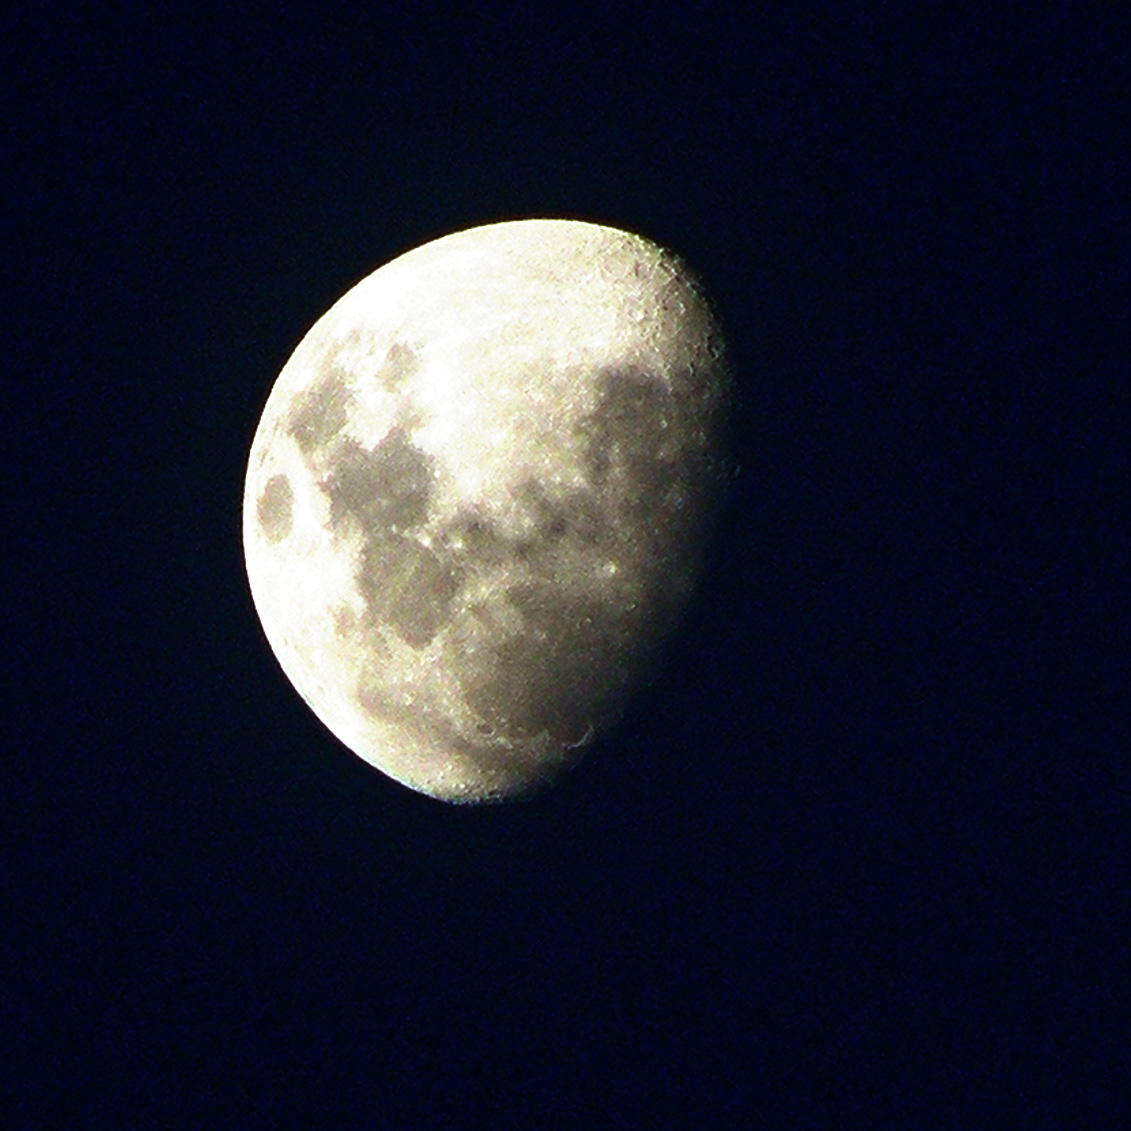crater: (589, 540, 634, 585), (619, 299, 649, 330), (466, 714, 499, 741), (400, 683, 428, 708), (624, 387, 649, 409), (650, 414, 672, 434)
